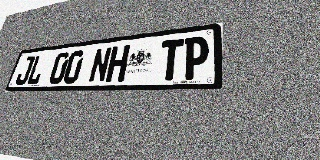0: (62, 50, 85, 84), (48, 52, 71, 84)
H: (105, 45, 130, 82)
J: (14, 56, 36, 85)
L: (26, 54, 48, 85)
N: (88, 47, 112, 83)
P: (182, 36, 209, 80)
T: (157, 38, 184, 81)
